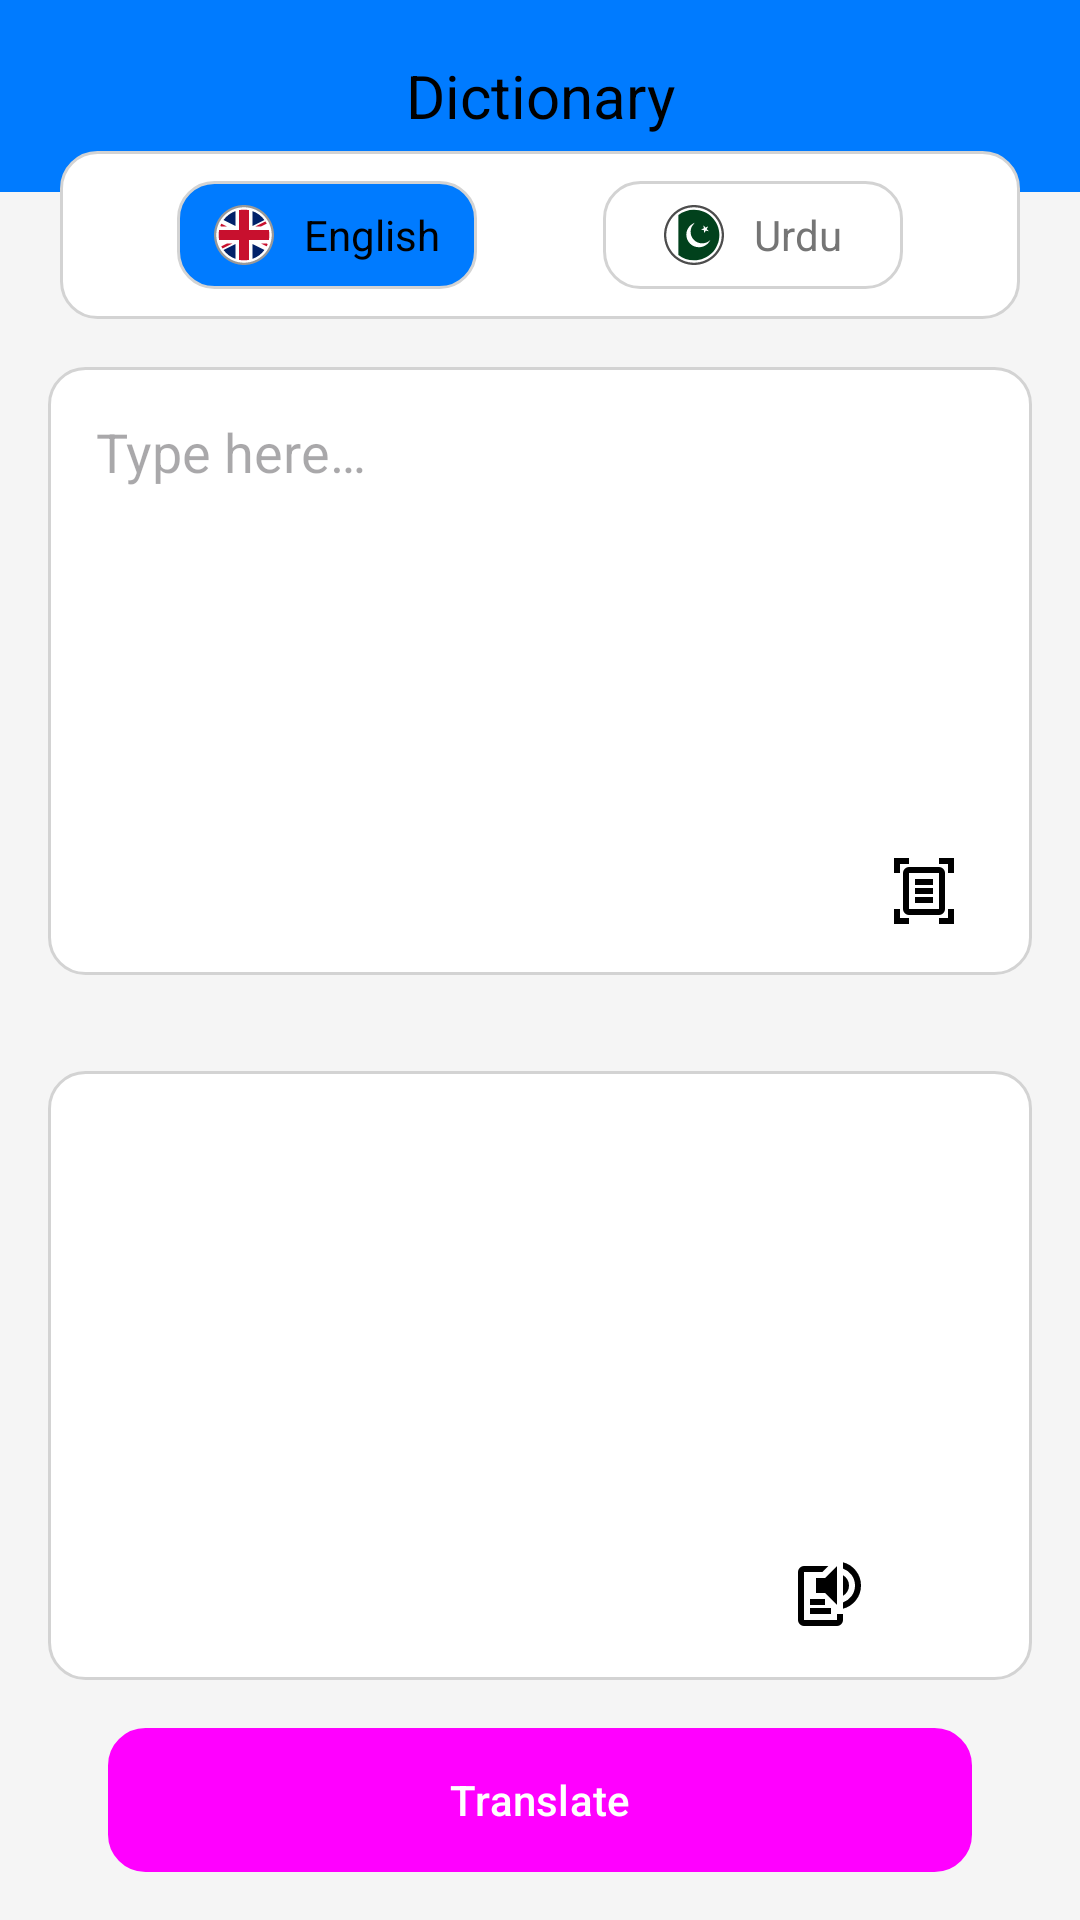

Icon click points for this 1080 x 1920 phone screenshot, format [x,y]:
OCR Icon: [924,891]
PK flag Icon: [694,235]
Speaker Icon: [829,1594]
UK Flag Icon: [244,235]
